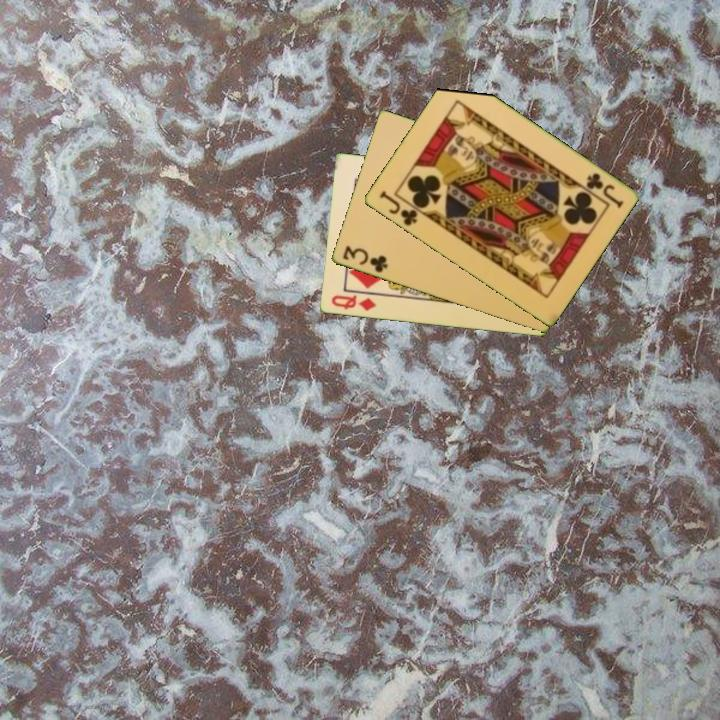3c: (339, 242, 390, 276)
Jc: (375, 187, 420, 229), (582, 169, 626, 211)
Qd: (328, 292, 379, 314)
